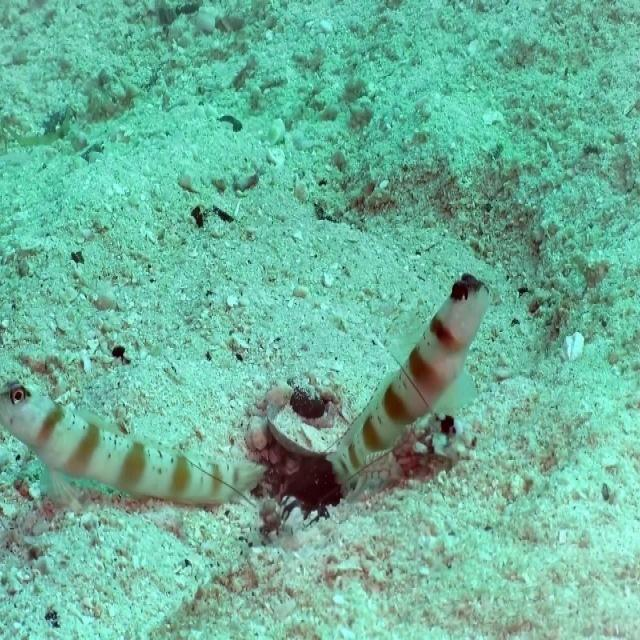fish: (330, 272, 491, 483), (0, 386, 266, 512)
